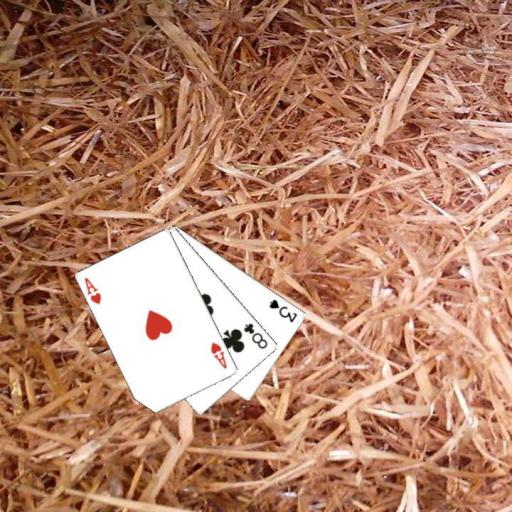3S: (266, 296, 299, 323)
8C: (241, 320, 270, 351)
AH: (81, 274, 103, 306), (208, 339, 229, 371)
